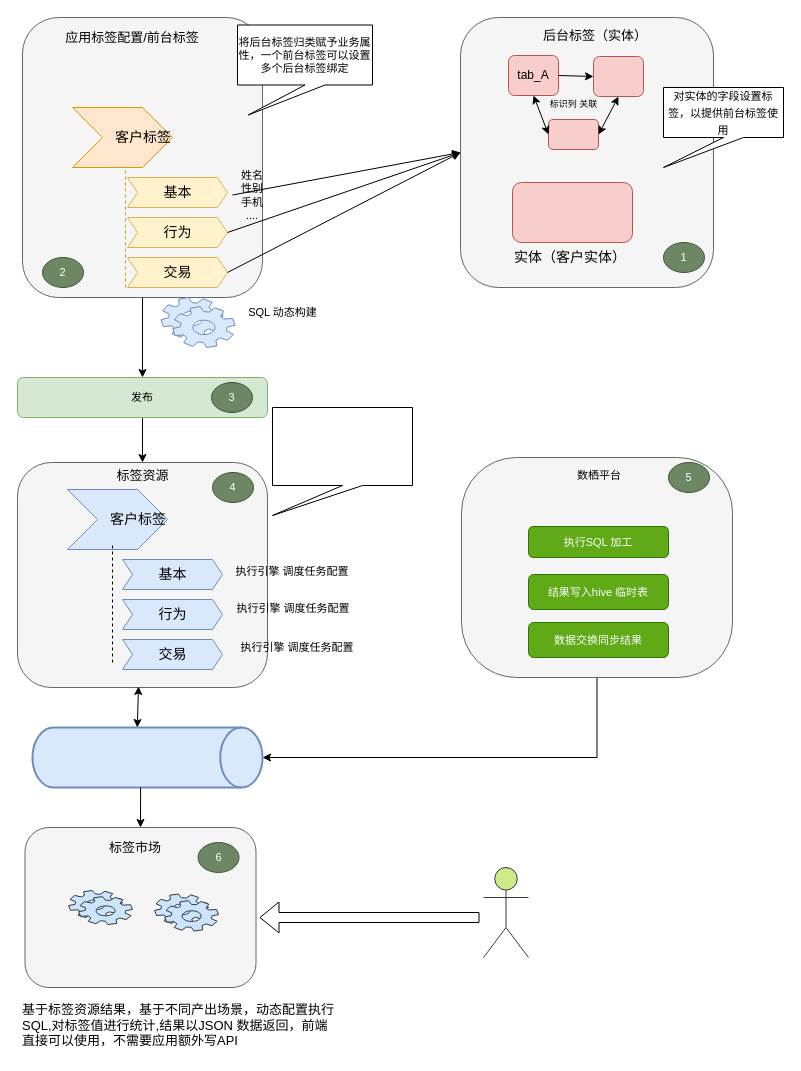
Some shapes in this 801 by 1071 pixel diagram are drawn without their labels. The centre of each missing label's shape, as x and y in pixels:
"Actor" belongs at pixel 505 912.
"mysql" belongs at pixel 147 757.
"tab_B" belongs at pixel 618 76.
"tab_C" belongs at pixel 573 134.
"发布标签，需要配置调度策略,当执行的时候，需要将任务（SQL）提交到数栖平台" belongs at pixel 342 461.
"设置标签/后台标签" belongs at pixel 572 212.
